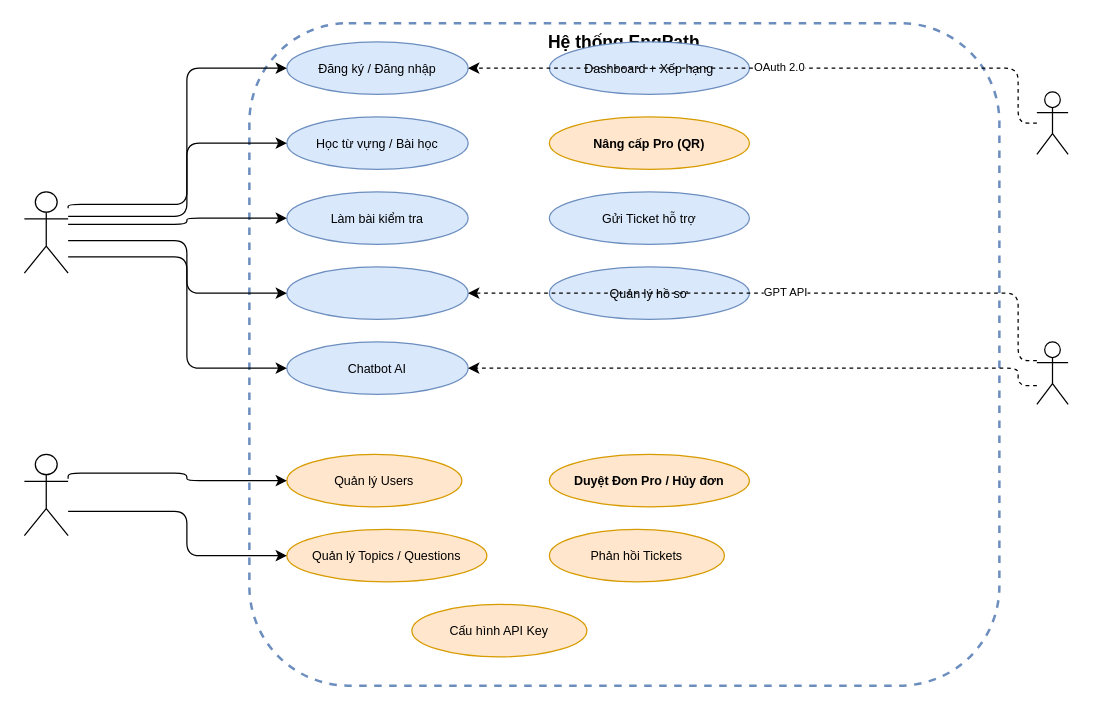
This 1110x708 diagram has some shape labels left out. The centre of each missing label's shape, as x and y in pixels:
Admin: the point at 45,494
Google OAuth: the point at 1052,122
Learner: the point at 45,232
Luyện nói AI: the point at 377,292
OpenAI API: the point at 1052,372
